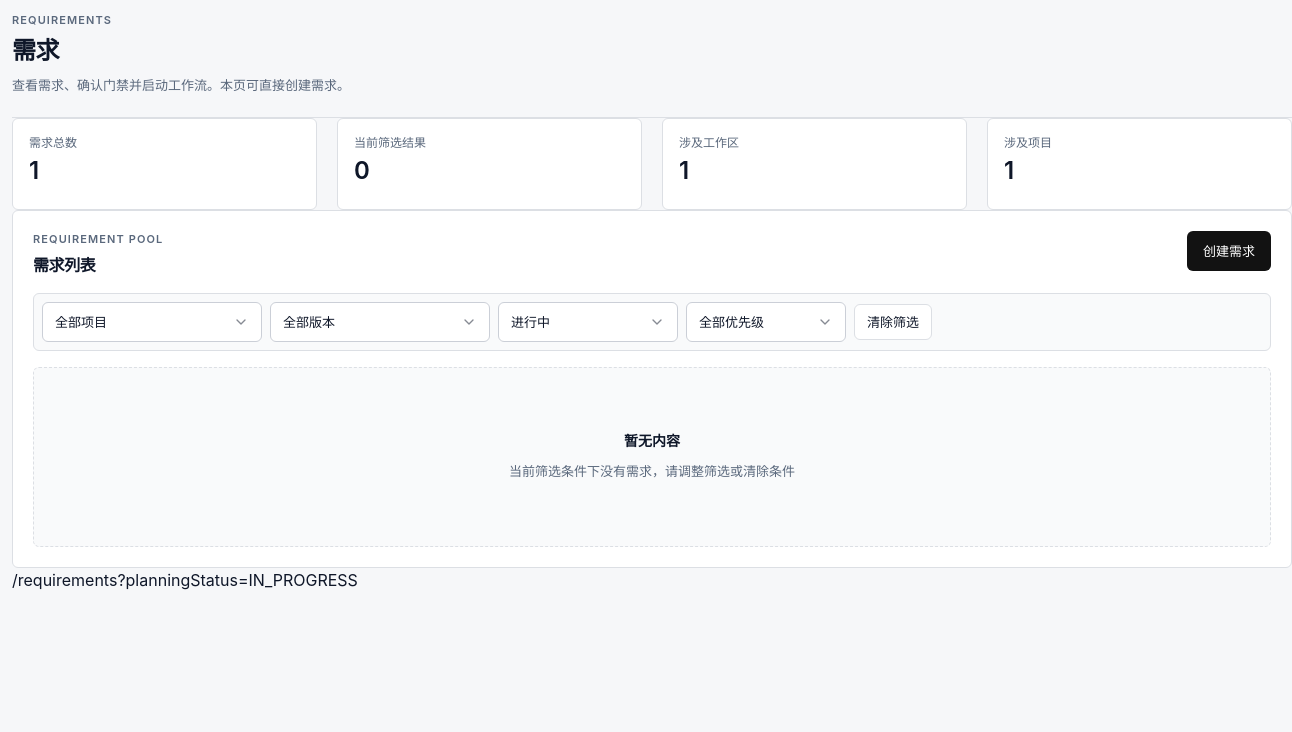
it: RequirementsPage › 清除筛选后恢复全量需求并在空结果时给出调整提示
Click the button "清除筛选": [893, 322] box [854,304,932,340]
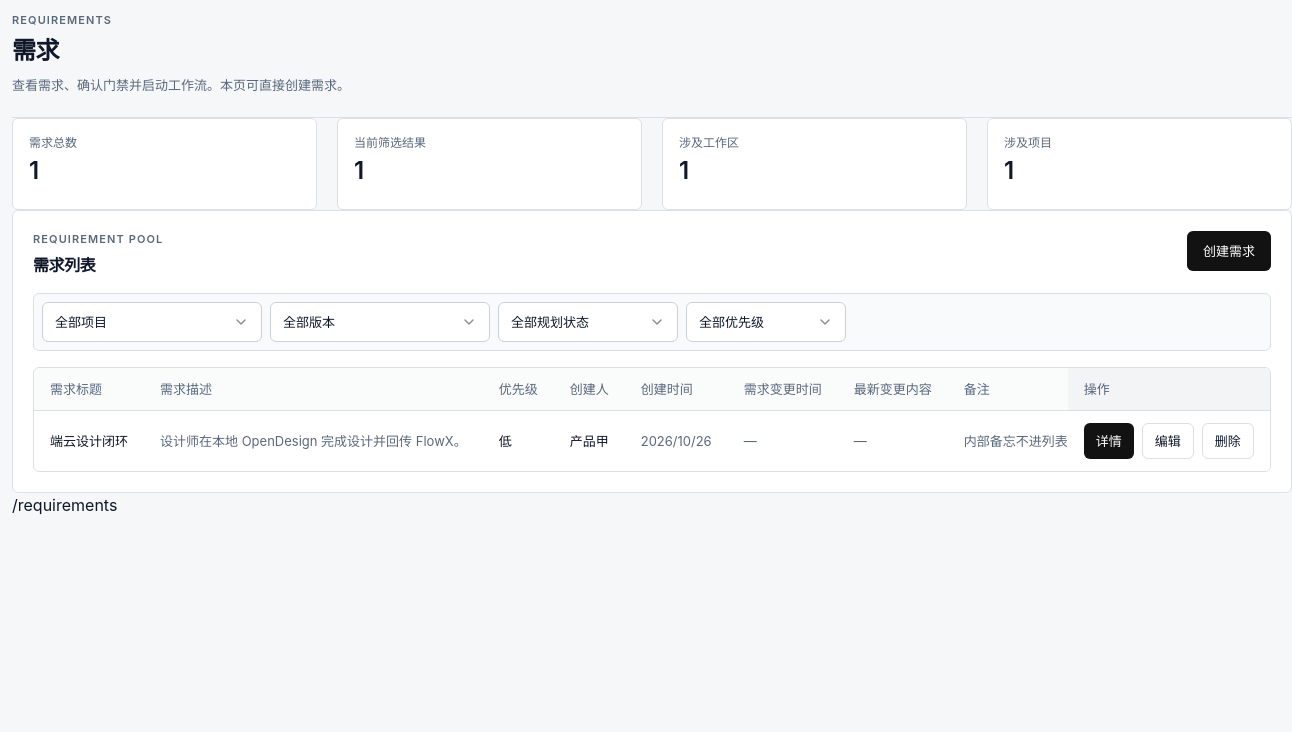
Check: the text "/requirements" is shown, box [12,495,117,515]
Check: the text "端云设计闭环" is shown, box [50,432,128,450]
